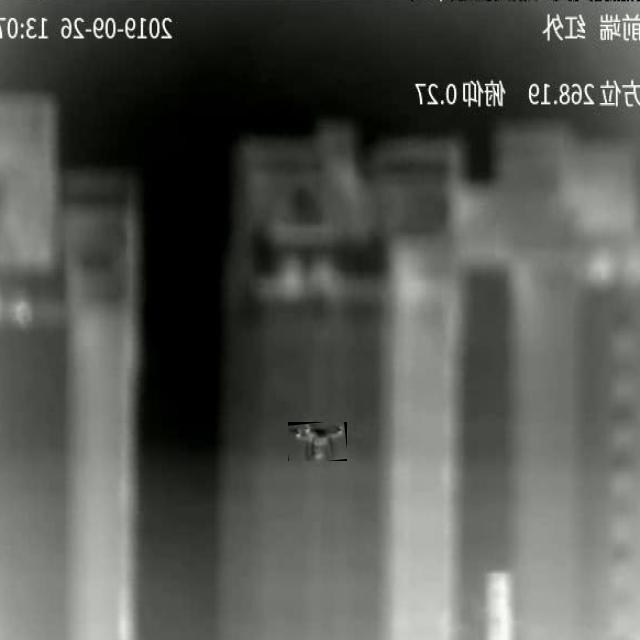drone: (288, 423, 346, 460)
